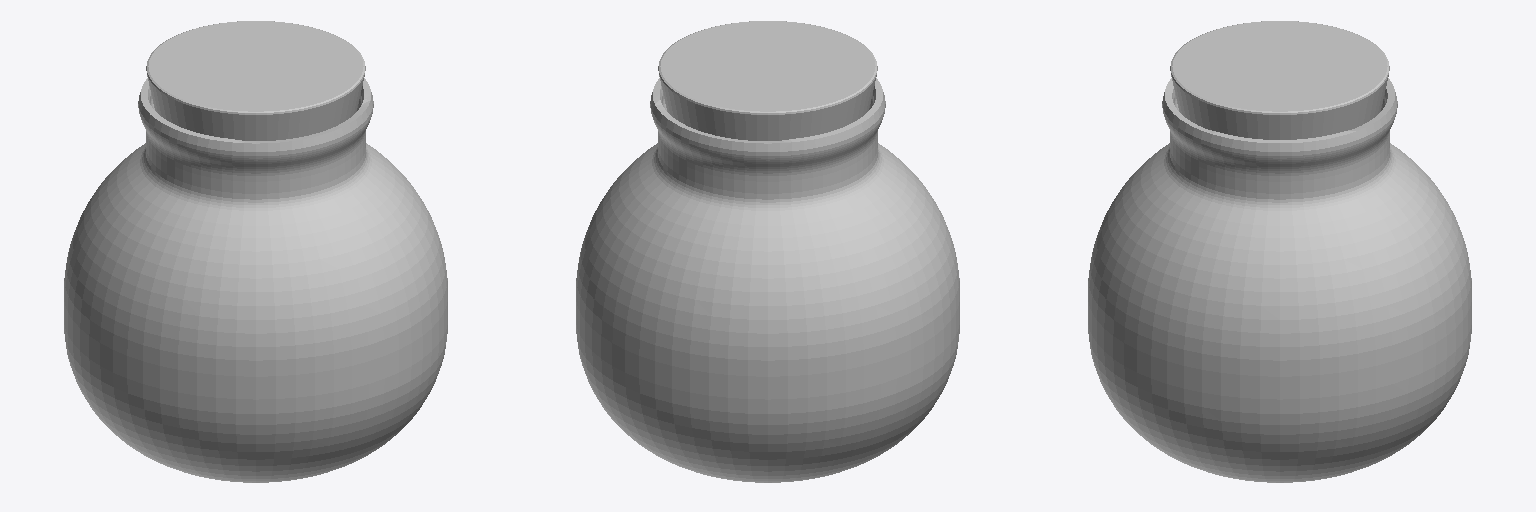
File: Project Name.obj
3 views of the same model, side by side, from view 1: azimuth 30°, elevation 25°; view 2: azimuth 150°, elevation 25°; view 3: azimuth 270°, elevation 25° (orthographic).
Parts seen in each view (by area): view 1: 001_Apothecary_-_Jar_-_baked, 000_Apothecary_-_Cork_-_baked; view 2: 001_Apothecary_-_Jar_-_baked, 000_Apothecary_-_Cork_-_baked; view 3: 001_Apothecary_-_Jar_-_baked, 000_Apothecary_-_Cork_-_baked.
Part boxes in pixels (x1,y1,x2,y2): 001_Apothecary_-_Jar_-_baked: (64, 78, 447, 482); 000_Apothecary_-_Cork_-_baked: (146, 21, 365, 140); 001_Apothecary_-_Jar_-_baked: (576, 78, 959, 482); 000_Apothecary_-_Cork_-_baked: (658, 21, 877, 140); 001_Apothecary_-_Jar_-_baked: (1088, 78, 1471, 482); 000_Apothecary_-_Cork_-_baked: (1170, 21, 1389, 139).
Bounding box in the file's own units: 136 × 148 × 136.